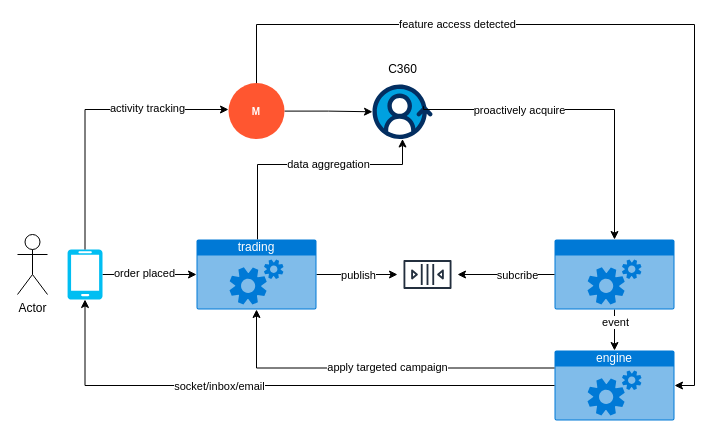
This 720x438 diagram has some shape labels left out. Here are the shapes that lost their labels. From the top down, the centre of each, then its label:
pixel 427 274: Message queue
pixel 614 274: aggregation
